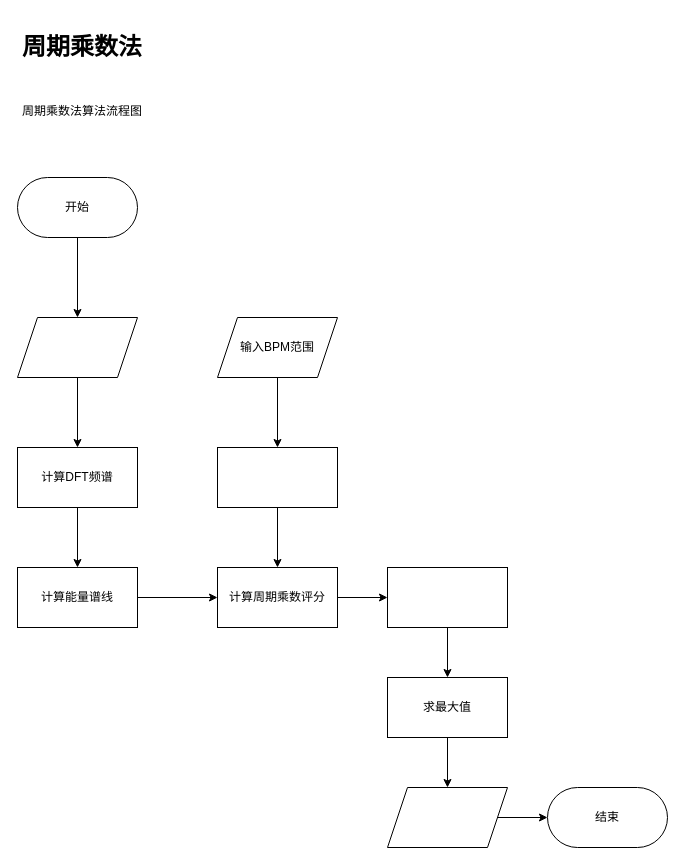
Some shapes in this 685 by 865 pixel diagram are drawn without their labels. The shapes that lost their labels are listed below. From the top down, each one's centre as x and y in pixels, then its label:
(x=77, y=347): 输入音频文件
(x=277, y=477): 生成周期乘数函数序列
(x=447, y=597): 各周期乘数函数序列下评分的方差
(x=447, y=817): 输出最大值对应的BPM
